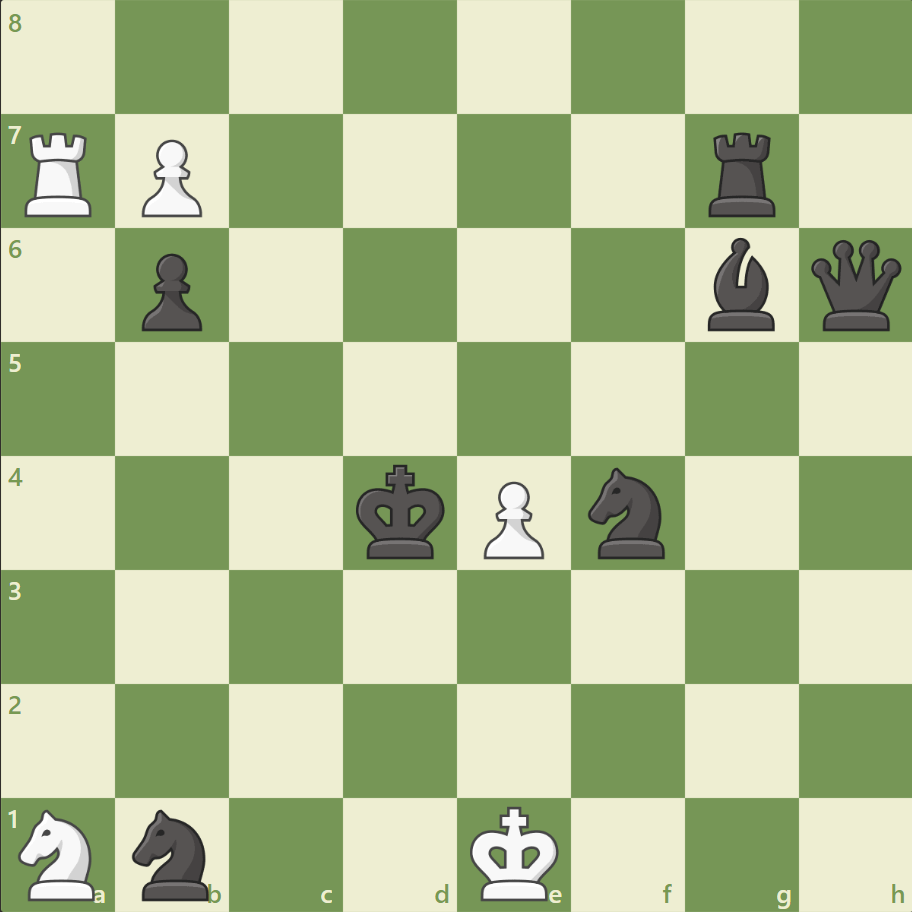K: (465, 798, 565, 906)
N: (11, 802, 108, 904)
P: (133, 132, 208, 223), (474, 473, 549, 564)
R: (19, 125, 102, 222)
b: (698, 233, 782, 336)
k: (351, 458, 451, 566)
n: (124, 802, 222, 904), (579, 461, 676, 564)
p: (133, 246, 208, 337)
q: (805, 236, 904, 335)
r: (700, 125, 783, 222)
